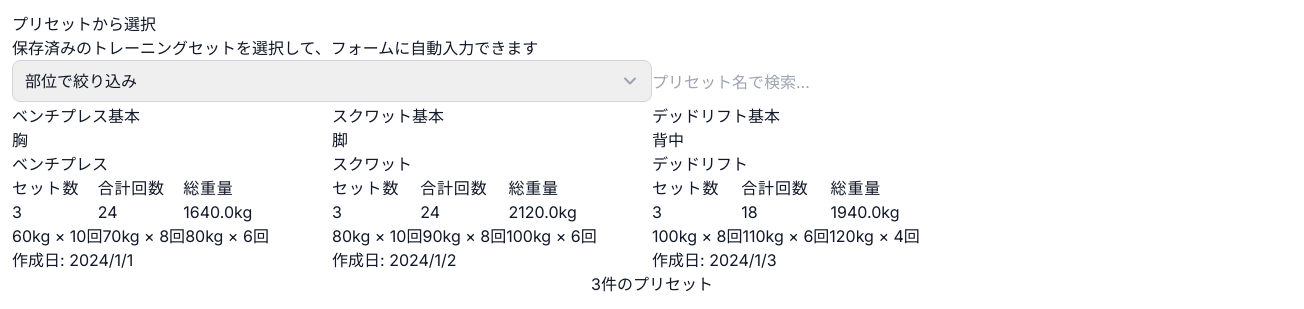
Test case: PresetSelector › 空の状態 › 検索結果が0件の場合、適切なメッセージが表示される
In the field labelled "プリセット名で検索": (972, 82) x1=652 y1=60 x2=1292 y2=104, type "存在しないプリセット"
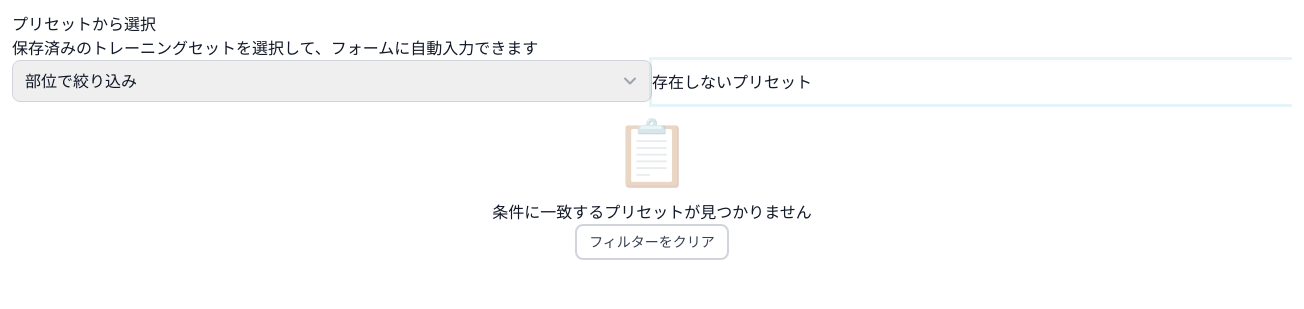
Result: the text "条件に一致するプリセットが見つかりません" is shown at x1=492 y1=200 x2=812 y2=224
